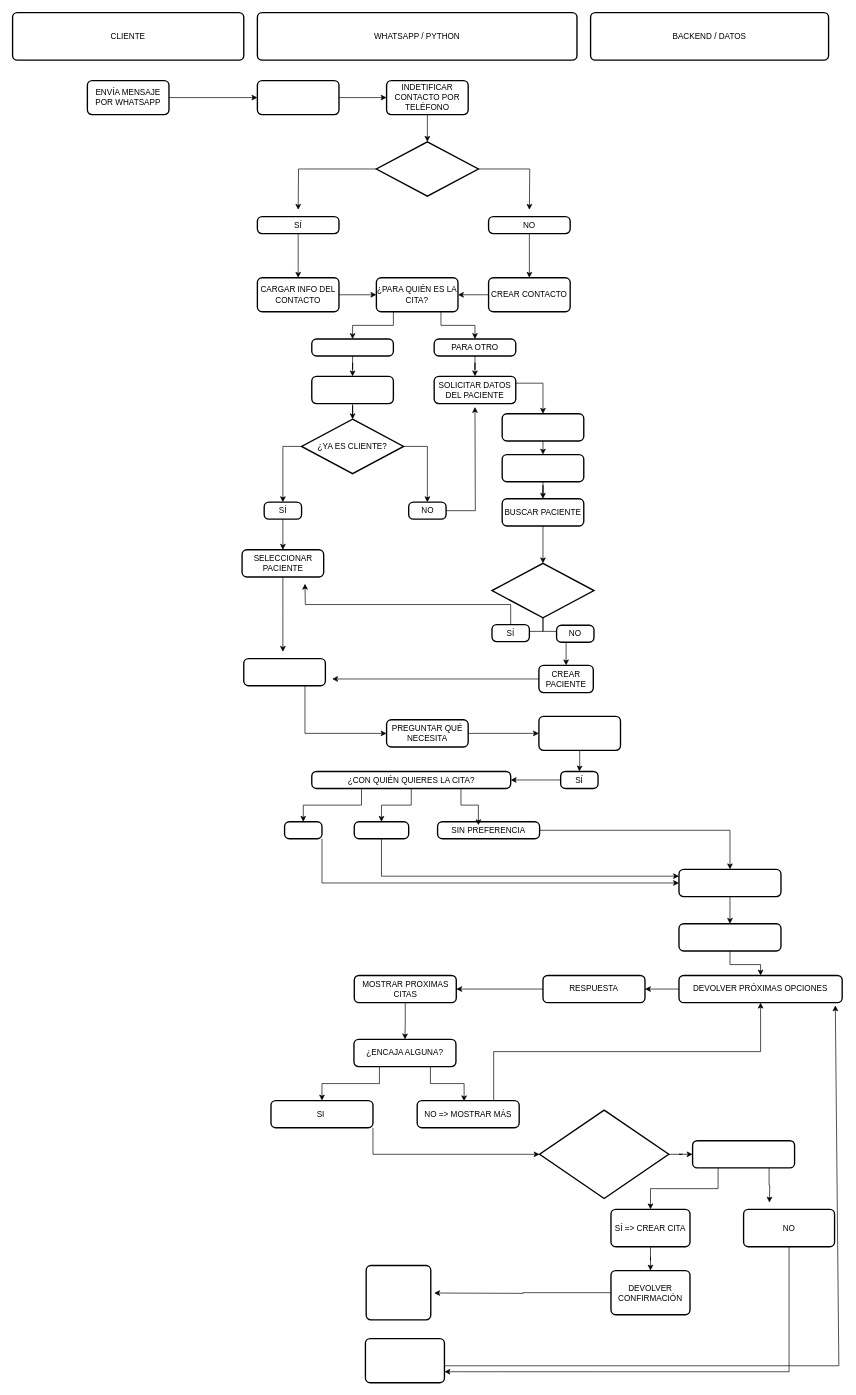
This 856x1395 diagram has some shape labels left out. The centre of each missing label's shape, as x and y in pixels:
"ALEX" goes at (303,830).
"AME" goes at (381,830).
"BUSCAR DISPONIBILIDAD" goes at (729,882).
"CALCULAR PRÓXIMOS HUECOS" goes at (729,937).
"CONFIRMAR CITA AL CLIENTE" goes at (398,1292).
"CONFIRMAR QUE LA CITA SIGUE DISPONIBLE" goes at (604,1154).
"IDENTIFICAR PACIENTE" goes at (352,389).
"INFORMAR AL CLIENTE" goes at (404,1360).
"OBTENER NOMBRE COMPLETO" goes at (542,427).
"OBTENER NÚMERO DE TELÉFONO" goes at (542,468).
"PACIENTE IDENTIFICADO" goes at (284,672).
"PARA MÍ" goes at (352,347).
"RECIBE MENSAJE POR WHATSAPP" goes at (297,97).
"¿CONOCEMOS AL CONTACTO?" goes at (427,169).
"¿PACIENTE ENCONTRADO?" goes at (542,590).
"¿QUIERES RESERVAR UNA CITA?" goes at (579,733).
"¿SIGUE DISPONIBLE?" goes at (743,1154).
